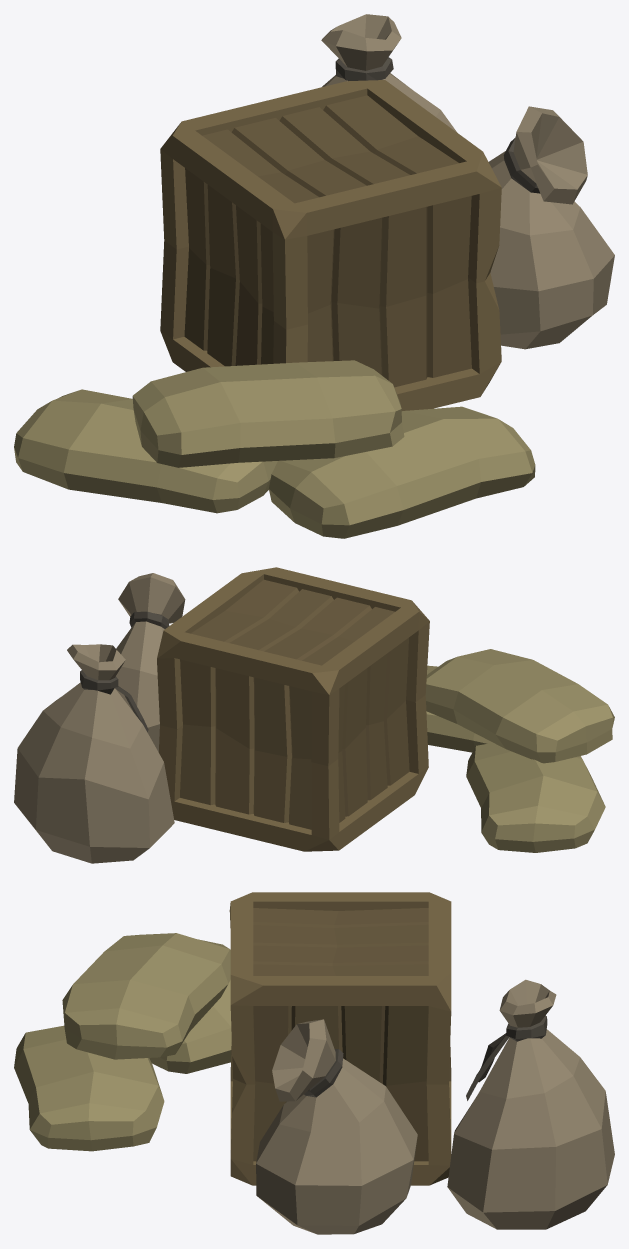
File: Stack_5.fbx
3 views of the same model, one above another, from view 1: azimuth 30°, elevation 25°; view 2: azimuth 150°, elevation 25°; view 3: azimuth 270°, elevation 25° (orthographic). The views are drawn at different scales.
Parts seen in each view (by area): view 1: Stack_5; view 2: Stack_5; view 3: Stack_5.
Part boxes in pixels (x1,y1,x2,y2): Stack_5: [14, 14, 614, 538]; Stack_5: [14, 567, 614, 863]; Stack_5: [14, 892, 614, 1234].
Size of the model in its own units: 188 by 71.43 by 184.
